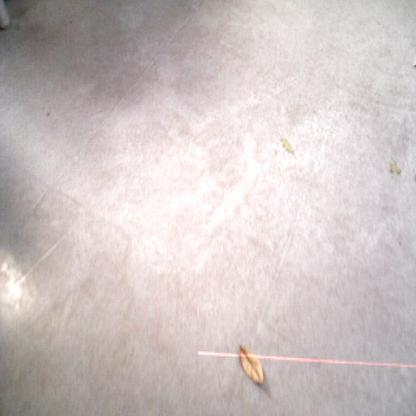dirty: (238, 343, 264, 387), (280, 135, 295, 155), (389, 160, 401, 175), (412, 62, 416, 70)
mark: (411, 160, 416, 180), (395, 237, 403, 247), (272, 148, 279, 157), (44, 109, 50, 118), (153, 67, 159, 76), (68, 18, 73, 26)
